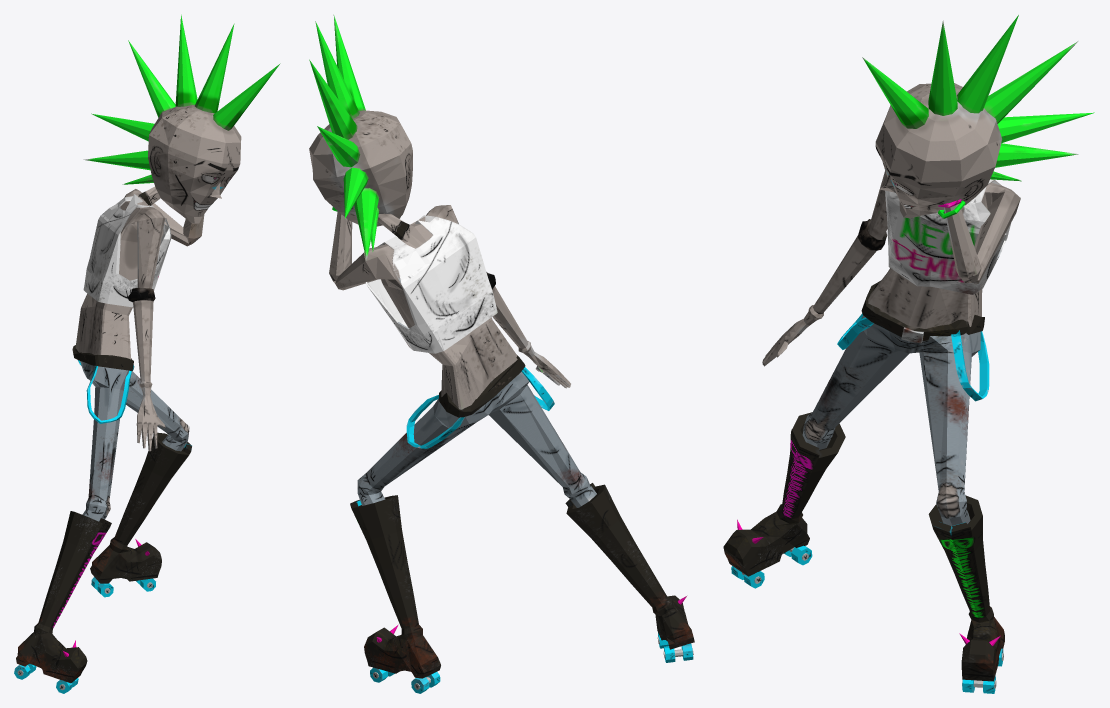
The model's file is punkAnimation_000067.obj.
3 renders of one model, left to right at view 1: azimuth 30°, elevation 25°; view 2: azimuth 150°, elevation 25°; view 3: azimuth 270°, elevation 25°, orthographic. The views are drawn at different scales.
Visible parts, largest first — view 1: Cube.004_Cube.003; view 2: Cube.004_Cube.003; view 3: Cube.004_Cube.003.
Boxes of the visible parts, x1=… form: Cube.004_Cube.003: x1=14, y1=14, x2=280, y2=693; Cube.004_Cube.003: x1=309, y1=14, x2=694, y2=693; Cube.004_Cube.003: x1=723, y1=15, x2=1094, y2=693.
Size of the model in its own units: 3.68 by 6.67 by 3.12.
